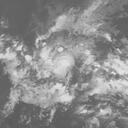cyclone: (1, 5, 127, 117)
